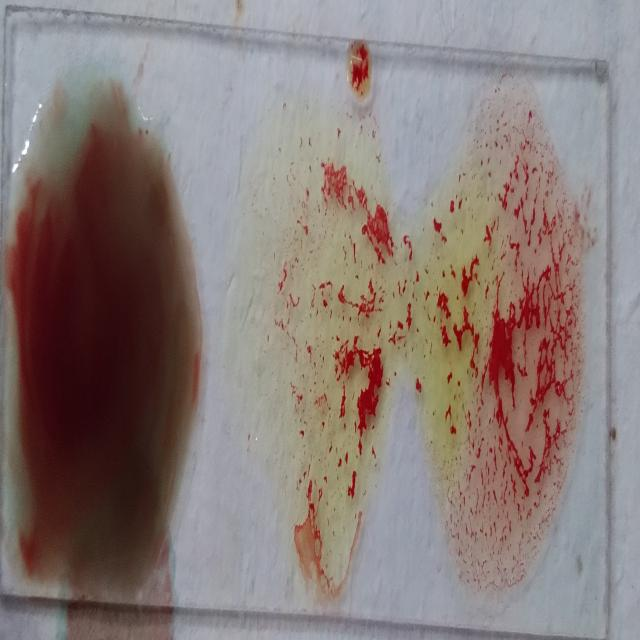B: (284, 110, 384, 591)
D: (494, 110, 574, 590)
